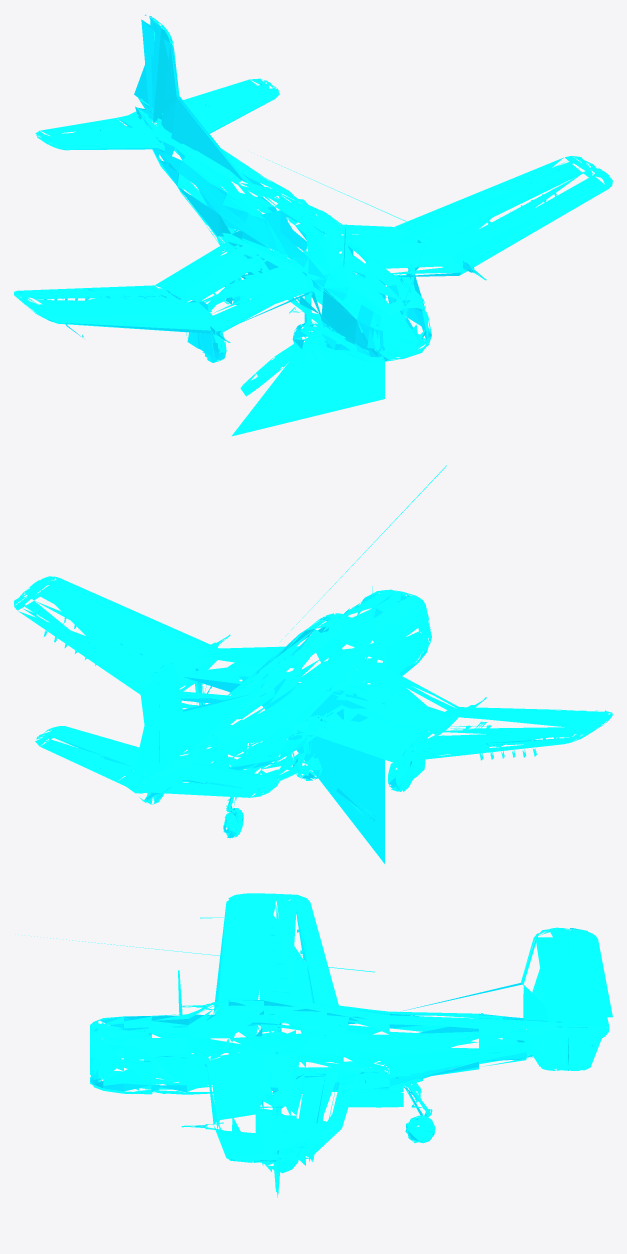
The model's file is PZAB701.glb.
3 renders of one model, top to bottom at view 1: azimuth 30°, elevation 25°; view 2: azimuth 150°, elevation 25°; view 3: azimuth 270°, elevation 25°, orthographic. The views are drawn at different scales.
Parts seen in each view (by area): view 1: misc; view 2: misc; view 3: misc.
Part boxes in pixels (bbox=[...]): misc: bbox=[14, 14, 612, 436]; misc: bbox=[14, 465, 612, 863]; misc: bbox=[15, 893, 612, 1197].
Size of the model in its own units: 0.9015 by 0.4336 by 0.854.
